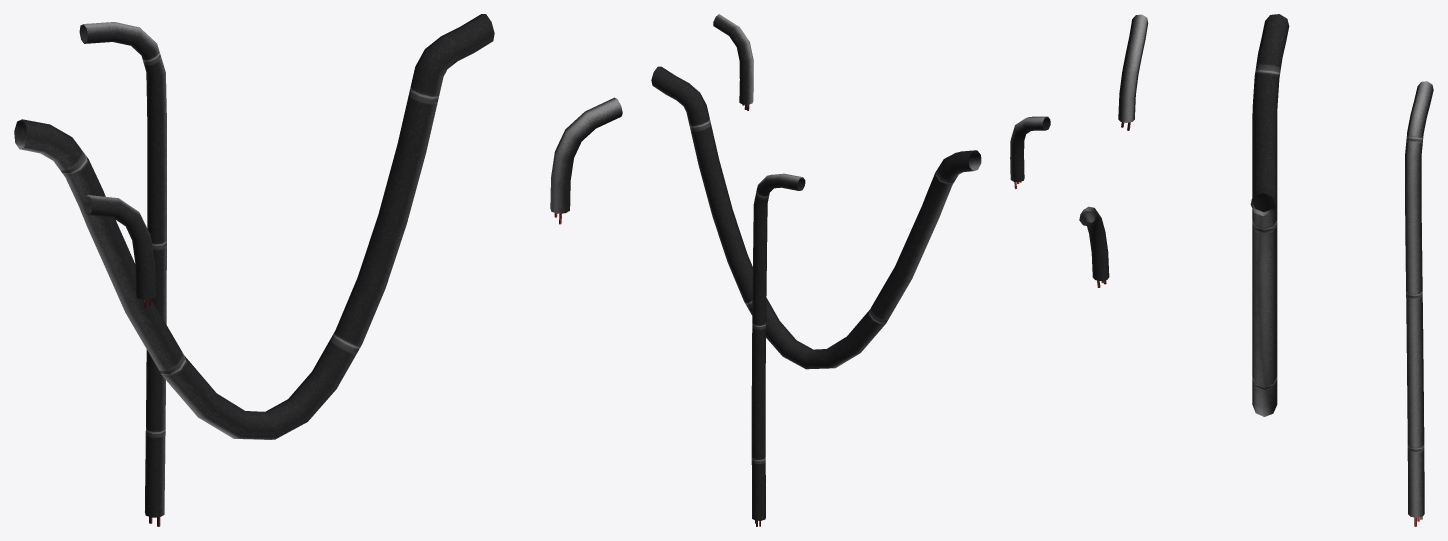
Rendered from Wires_A.fbx.
3 renders of one model, left to right at view 1: azimuth 30°, elevation 25°; view 2: azimuth 150°, elevation 25°; view 3: azimuth 270°, elevation 25°, orthographic. The views are drawn at different scales.
Visible parts, largest first — view 1: Wires_A; view 2: Wires_A; view 3: Wires_A.
Part boxes in pixels (bbox=[...]): Wires_A: bbox=[14, 14, 622, 526]; Wires_A: bbox=[651, 14, 1050, 526]; Wires_A: bbox=[1079, 14, 1433, 526].
Bounding box in the file's own units: 113 × 113 × 85.37.
